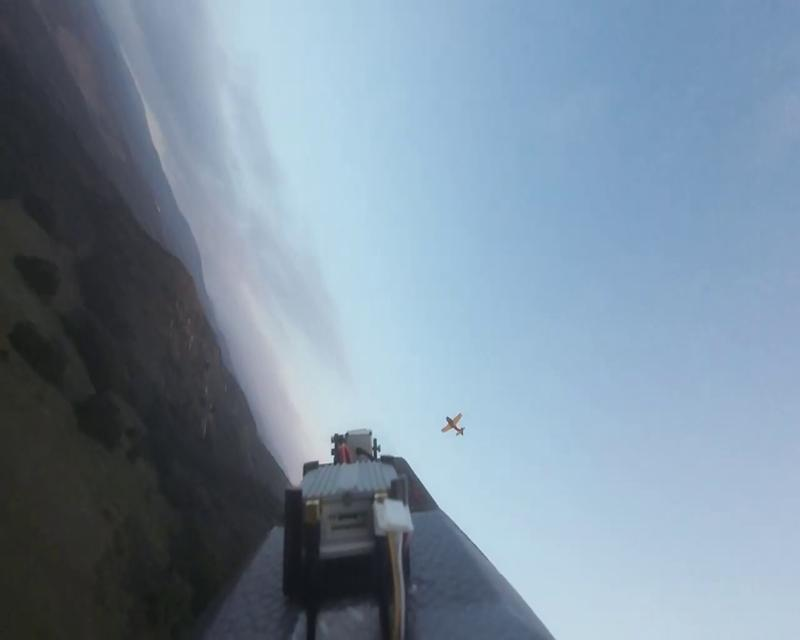UAV: (439, 413, 466, 436)
